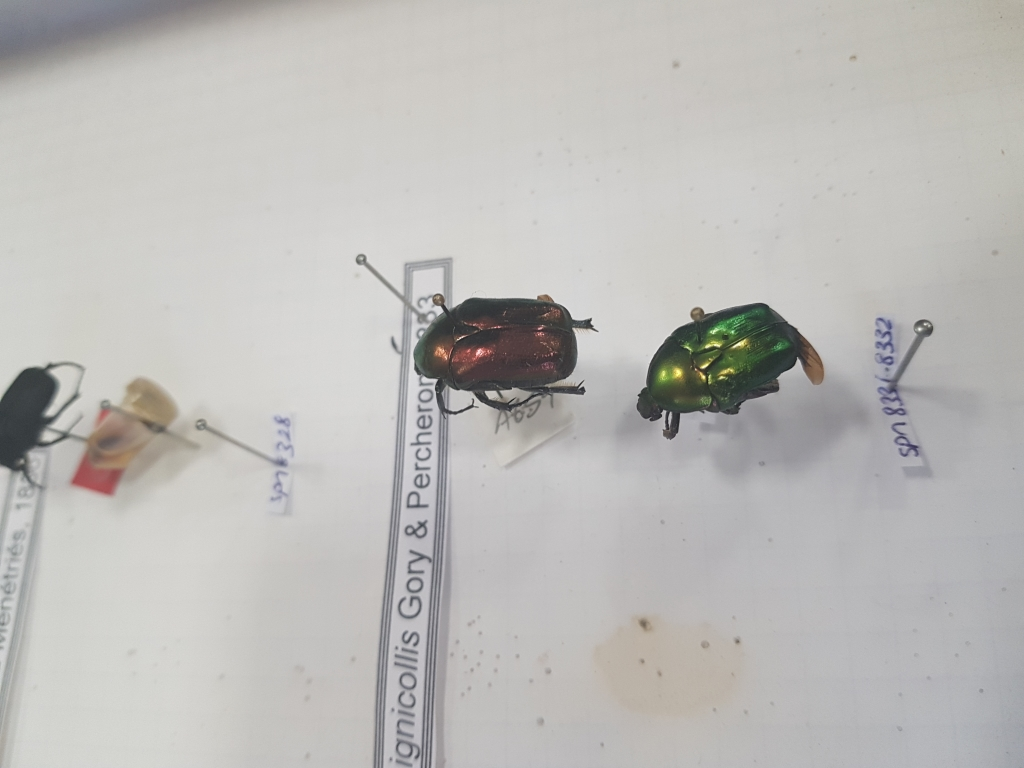Protaetia_cuprea_ignicollis: (633, 301, 824, 439), (408, 295, 596, 416)
